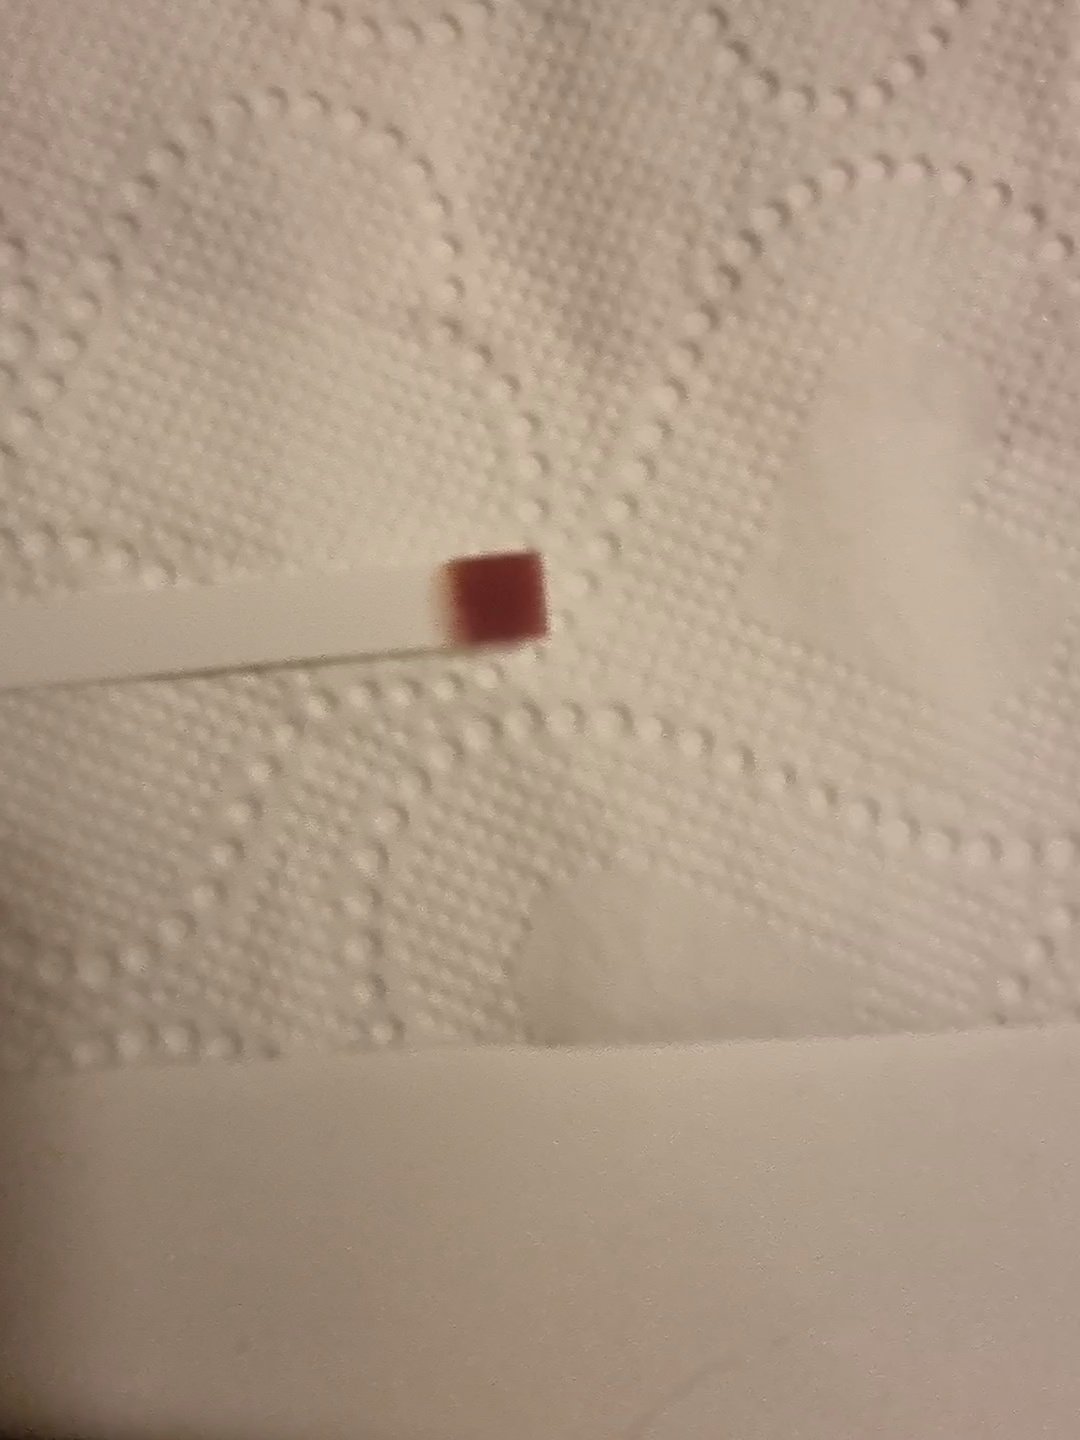keto-tip: (428, 542, 556, 663)
